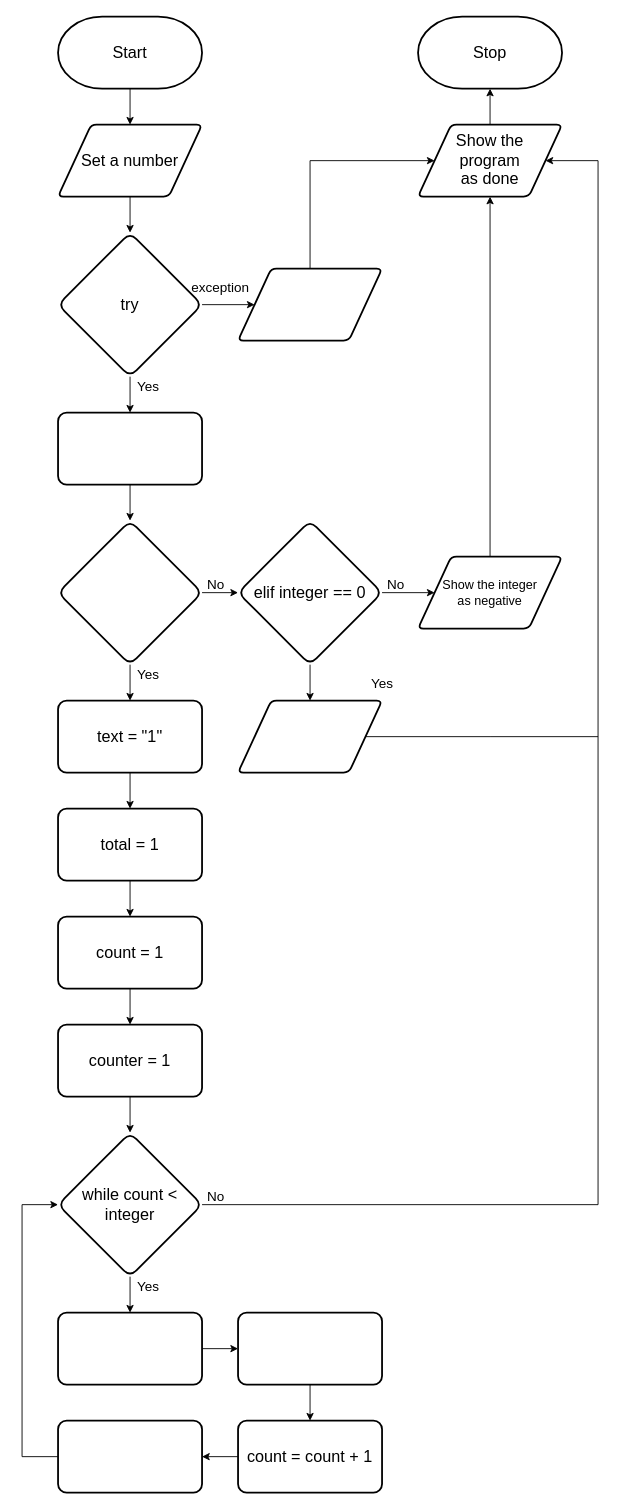
This 621x1508 diagram has some shape labels left out. Here are the shapes that lost their labels. From the top down, the centre of each, then its label:
point 309,304: Show the chosen year as not an integer
point 129,448: integer = int(number)
point 129,592: if integer < 0
point 309,736: Show 0 = 0
point 129,1348: counter = counter + 1
point 309,1348: total = total + counter
point 129,1456: text = text + " + " + str(counter)
